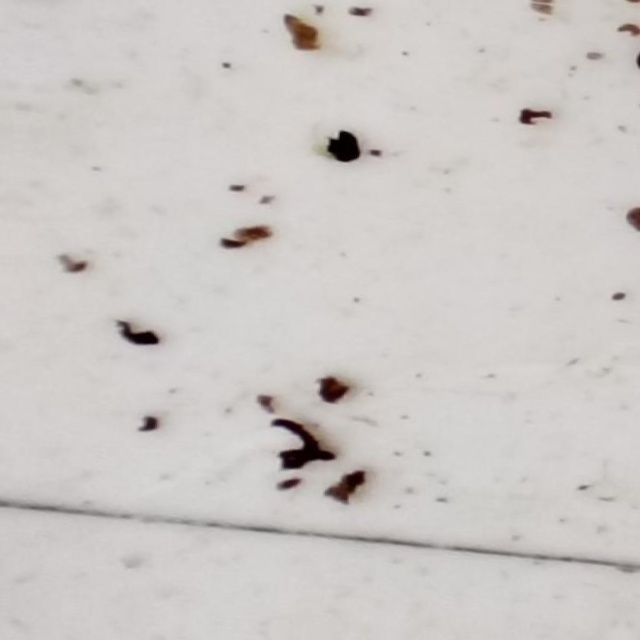varroa: (318, 127, 364, 168)
